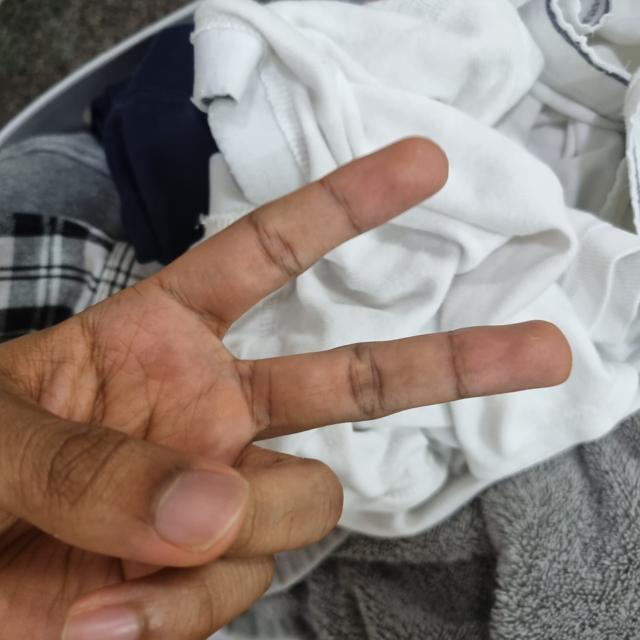Scissors: (0, 137, 563, 640)
